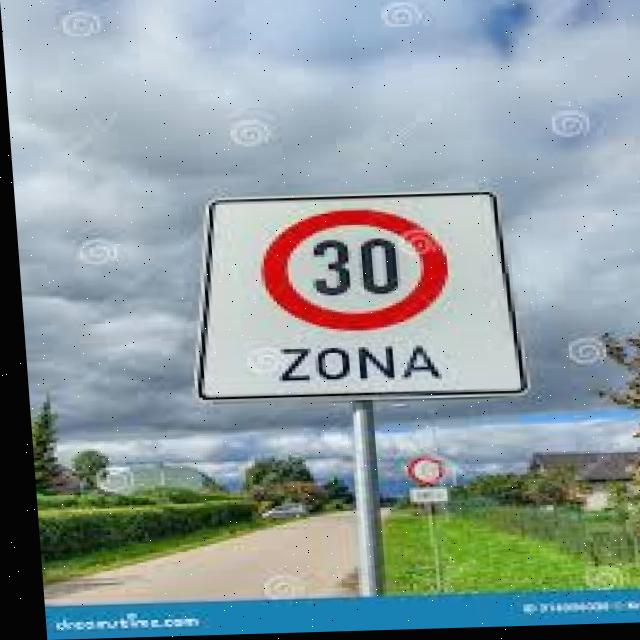Speed limit 30: (251, 207, 451, 336)
